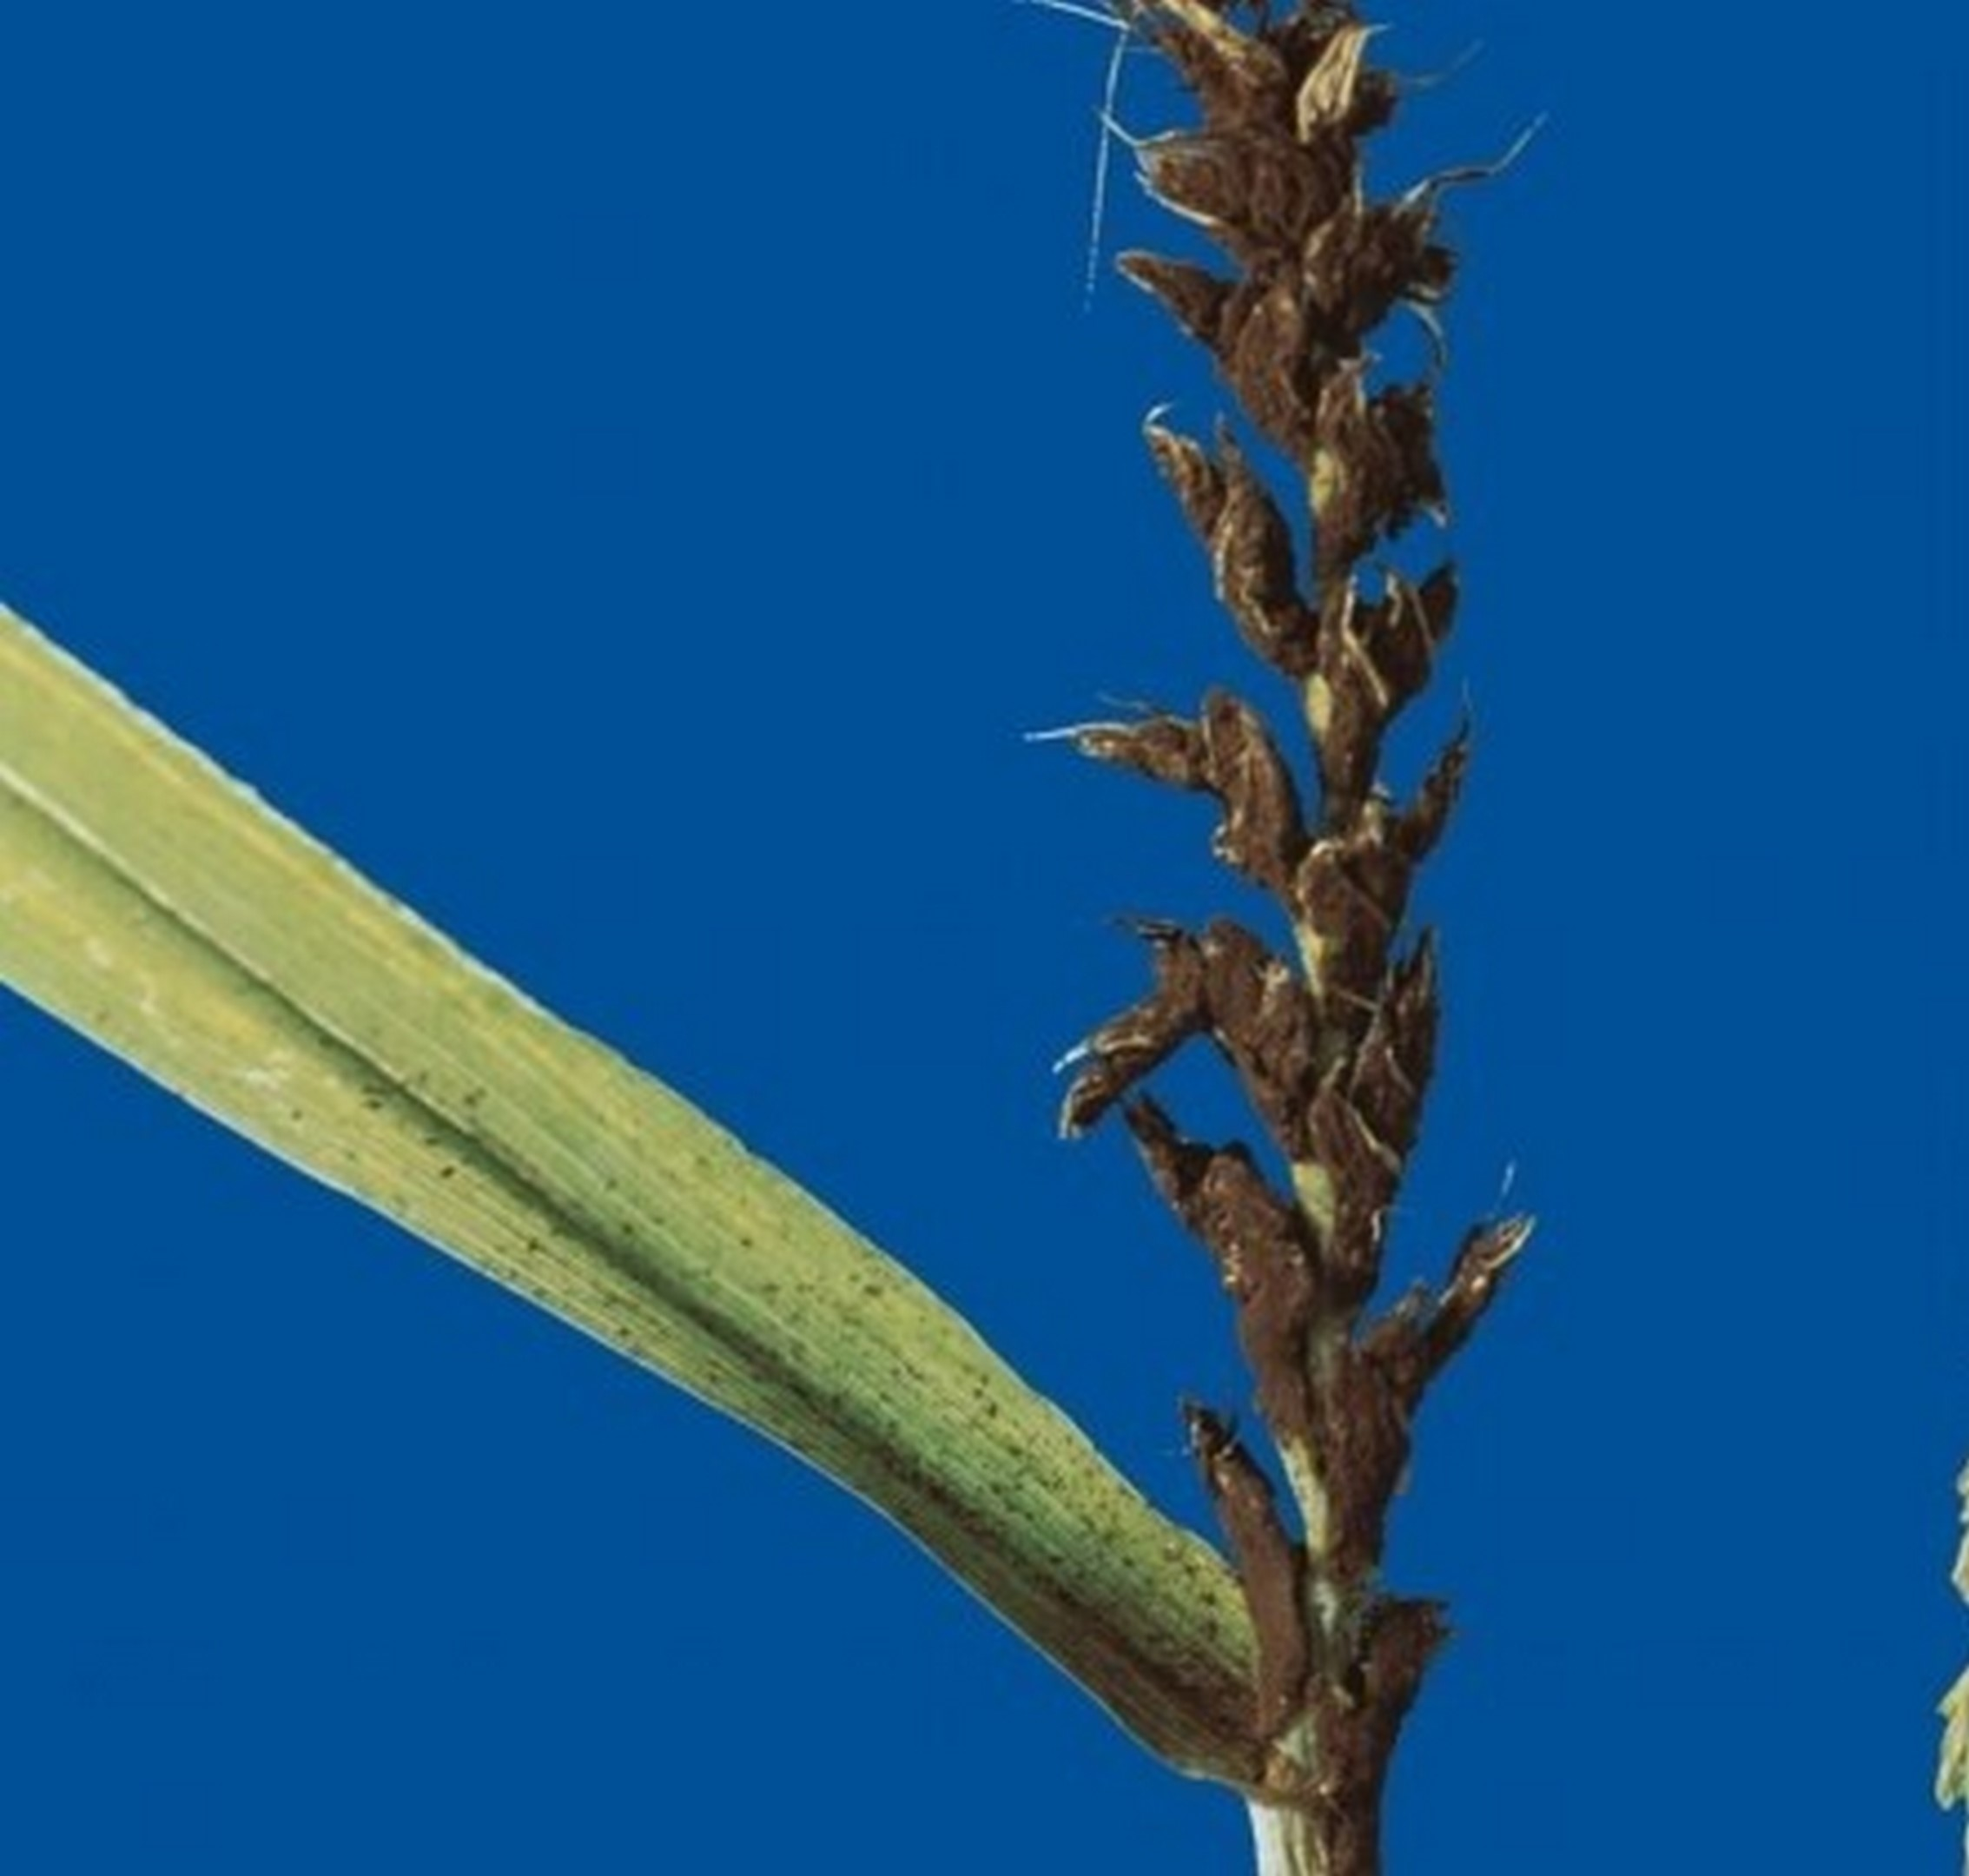Wheat Loose Smut: (1090, 55, 1540, 1716)
